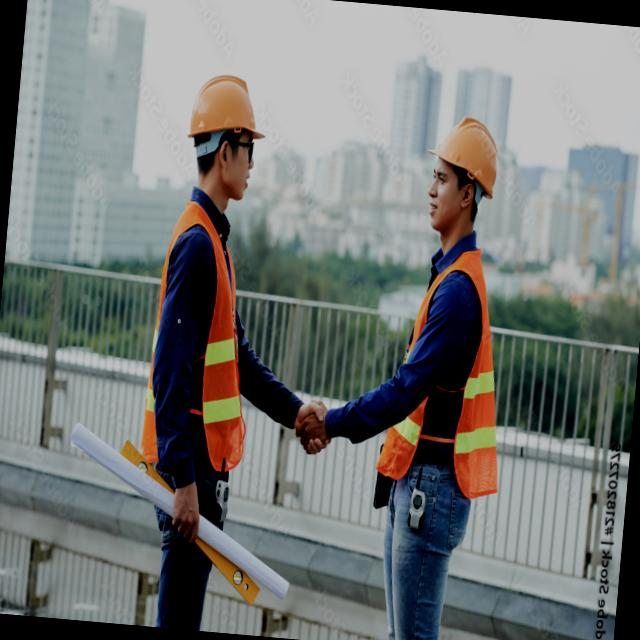goggles: (214, 134, 261, 160)
helmet: (431, 114, 504, 197), (184, 74, 262, 144)
no-goggles: (429, 165, 478, 190)
vest: (380, 244, 510, 486), (141, 214, 259, 468)
